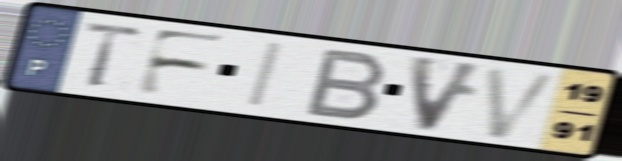B: (299, 46, 391, 123)
F: (132, 26, 233, 99)
I: (243, 39, 289, 111)
T: (78, 19, 150, 89)
V: (407, 52, 491, 135), (482, 64, 566, 141)
